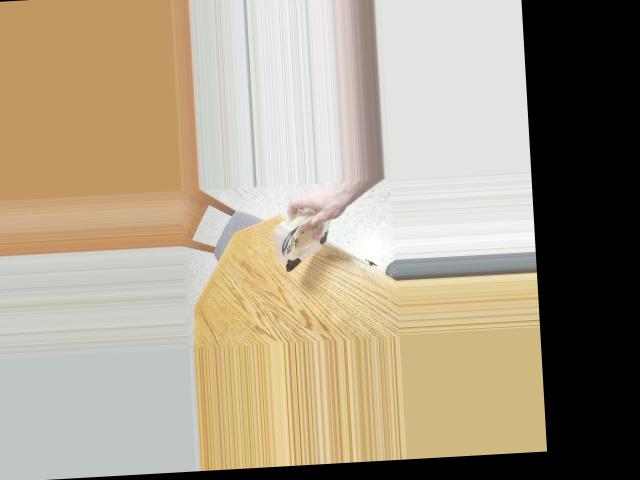cheese: (265, 209, 350, 269)
